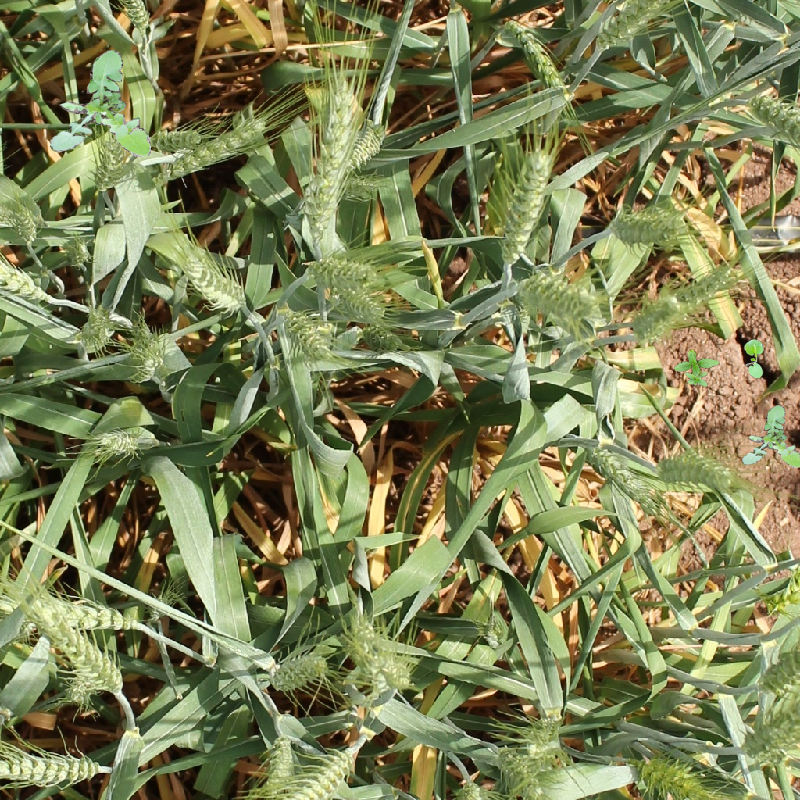spikelet: (298, 84, 360, 235), (33, 607, 126, 693), (157, 113, 269, 180), (494, 144, 555, 265), (495, 16, 575, 101), (582, 436, 658, 512), (1, 740, 107, 788), (269, 744, 358, 799), (179, 249, 251, 313), (525, 268, 603, 323), (592, 1, 673, 52), (741, 696, 800, 765), (271, 302, 337, 358), (608, 204, 688, 249), (638, 755, 718, 799), (653, 450, 734, 491), (491, 743, 550, 799), (50, 598, 145, 632), (672, 262, 740, 308), (742, 90, 799, 144), (1, 249, 54, 306), (627, 292, 684, 344), (306, 251, 380, 287), (268, 649, 328, 691), (257, 734, 295, 799), (91, 131, 130, 193), (329, 283, 391, 322), (754, 644, 799, 697), (365, 651, 414, 695), (133, 332, 174, 384), (72, 307, 117, 354), (345, 120, 387, 169), (522, 711, 565, 758), (342, 618, 382, 663), (95, 425, 150, 457), (1, 196, 39, 242), (356, 320, 406, 353), (148, 125, 204, 154), (765, 574, 800, 620), (147, 591, 185, 627), (481, 608, 511, 653), (66, 668, 101, 704), (59, 231, 92, 269), (117, 1, 151, 32), (451, 778, 492, 800)
weed: (48, 49, 143, 153), (742, 405, 800, 468), (674, 349, 720, 387), (744, 339, 764, 379)
